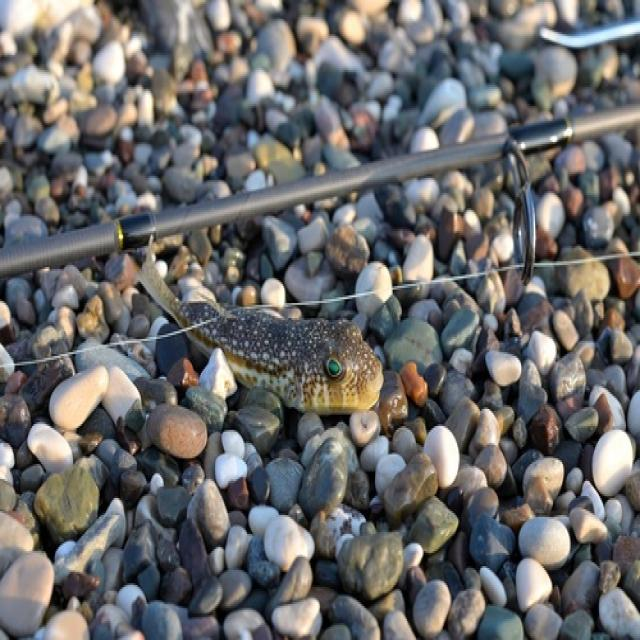Balik: (139, 252, 382, 414)
